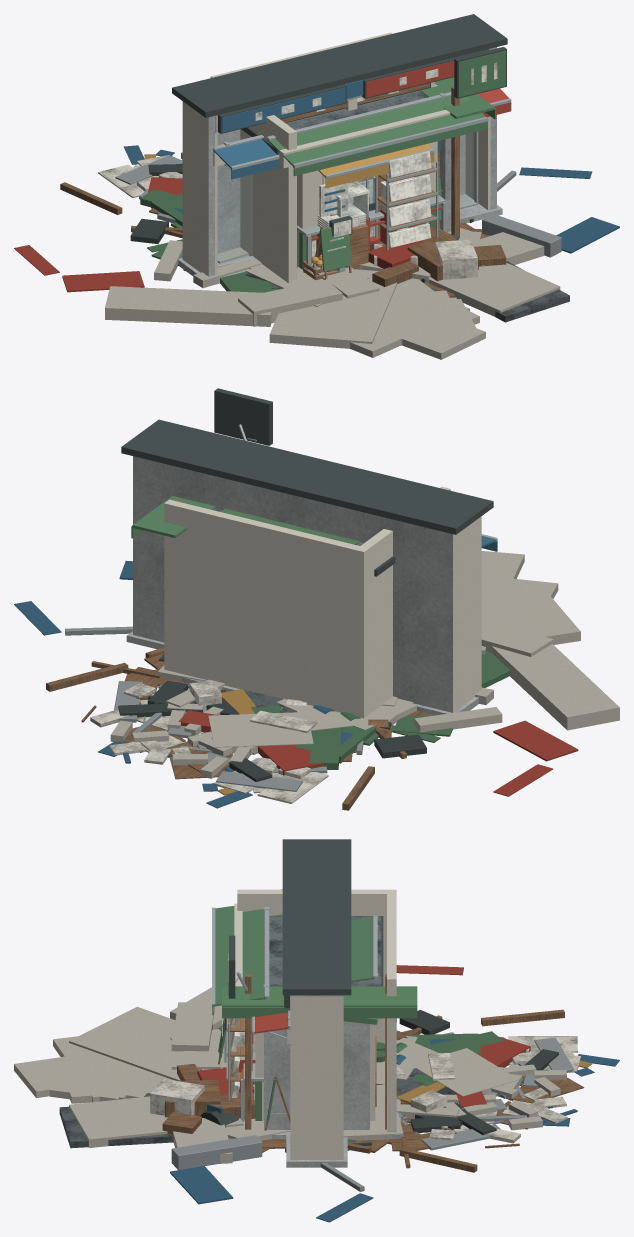
Rendered from shop_02.glb.
3 views of the same model, one above another, from view 1: azimuth 30°, elevation 25°; view 2: azimuth 150°, elevation 25°; view 3: azimuth 270°, elevation 25° (orthographic). The views are drawn at different scales.
Visible parts, largest first — view 1: shop_099__LOD2_dark, shop_100__LOD0_green, shop_100__wreck_static_plaster, shop_100__LOD0_plaster, shop_099__wreck_static_plaster, shop_099__LOD0_plaster, shop_099__LOD2_concrete, shop_098__wreck_static_plaster, shop_099__LOD0_glass, shop_089__LOD0_ceramic, shop_099__LOD0_blue, shop_089__wreck_static_plaster (+39 smaller); view 2: shop_100__LOD0_plaster, shop_099__LOD2_concrete, shop_099__LOD2_dark, shop_099__wreck_static_plaster, shop_099__LOD0_plaster, shop_100__wreck_static_plaster, shop_096__wreck_static_plaster, shop_100__LOD0_dark, shop_099__wreck_static_red, shop_098__wreck_static_plaster, shop_090__wreck_static_red, shop_100__wreck_static_wood (+24 smaller); view 3: shop_099__LOD2_dark, shop_099__LOD0_plaster, shop_100__wreck_static_plaster, shop_100__LOD0_green, shop_097__LOD2_concrete, shop_100__LOD0_plaster, shop_089__wreck_static_plaster, shop_096__wreck_static_plaster, shop_098__wreck_static_plaster, shop_096__wreck_static_ceramic, shop_098__wreck_static_metal, shop_099__wreck_static_blue (+33 smaller).
Part boxes in pixels (bbox=[...]): shop_099__LOD2_dark: bbox=[172, 14, 507, 117]; shop_100__LOD0_green: bbox=[268, 50, 505, 271]; shop_100__wreck_static_plaster: bbox=[269, 262, 560, 348]; shop_100__LOD0_plaster: bbox=[210, 32, 450, 283]; shop_099__wreck_static_plaster: bbox=[105, 232, 544, 326]; shop_099__LOD0_plaster: bbox=[182, 98, 490, 276]; shop_099__LOD2_concrete: bbox=[178, 47, 502, 284]; shop_098__wreck_static_plaster: bbox=[193, 257, 430, 326]; shop_099__LOD0_glass: bbox=[218, 133, 471, 263]; shop_089__LOD0_ceramic: bbox=[317, 151, 431, 247]; shop_099__LOD0_blue: bbox=[213, 87, 345, 179]; shop_089__wreck_static_plaster: bbox=[375, 298, 475, 337]; shop_100__LOD0_plaster: bbox=[164, 486, 450, 718]; shop_099__LOD2_concrete: bbox=[126, 456, 478, 715]; shop_099__LOD2_dark: bbox=[121, 419, 493, 534]; shop_099__wreck_static_plaster: bbox=[414, 636, 619, 732]; shop_099__LOD0_plaster: bbox=[453, 516, 481, 712]; shop_100__wreck_static_plaster: bbox=[481, 585, 580, 644]; shop_096__wreck_static_plaster: bbox=[208, 551, 524, 753]; shop_100__LOD0_dark: bbox=[215, 389, 272, 445]; shop_099__wreck_static_red: bbox=[493, 720, 578, 796]; shop_098__wreck_static_plaster: bbox=[475, 619, 553, 704]; shop_090__wreck_static_red: bbox=[178, 710, 323, 775]; shop_100__wreck_static_wood: bbox=[46, 662, 374, 810]; shop_099__LOD2_dark: bbox=[282, 839, 351, 995]; shop_099__LOD0_plaster: bbox=[287, 996, 343, 1159]; shop_100__wreck_static_plaster: bbox=[69, 1006, 243, 1147]; shop_100__LOD0_green: bbox=[212, 906, 417, 1057]; shop_097__LOD2_concrete: bbox=[264, 1021, 369, 1129]; shop_100__LOD0_plaster: bbox=[234, 889, 396, 1132]; shop_089__wreck_static_plaster: bbox=[49, 1047, 425, 1123]; shop_096__wreck_static_plaster: bbox=[14, 1048, 518, 1097]; shop_098__wreck_static_plaster: bbox=[171, 1002, 226, 1069]; shop_096__wreck_static_ceramic: bbox=[150, 1079, 548, 1115]; shop_098__wreck_static_metal: bbox=[171, 1116, 407, 1170]; shop_099__wreck_static_blue: bbox=[170, 1166, 373, 1222].
Size of the model in its own units: 11.47 by 4.07 by 11.43.
37 materials, 36 textured.
